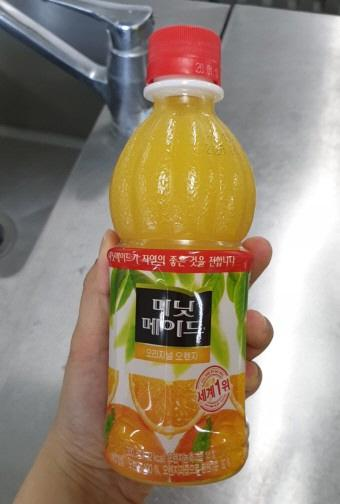minutemaid_org_orange: (108, 7, 249, 498)
